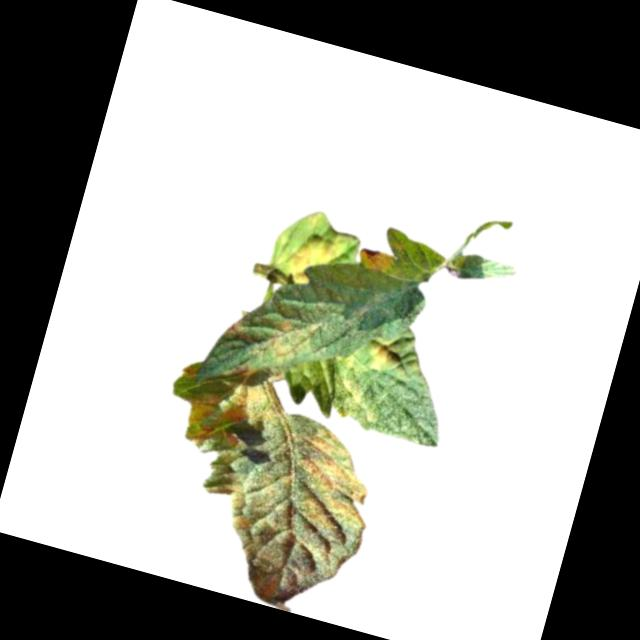Leaf_Mold: (140, 380, 392, 625), (257, 309, 318, 370), (281, 230, 340, 292), (328, 372, 371, 421), (363, 336, 401, 377), (355, 245, 394, 276), (220, 313, 251, 346)
